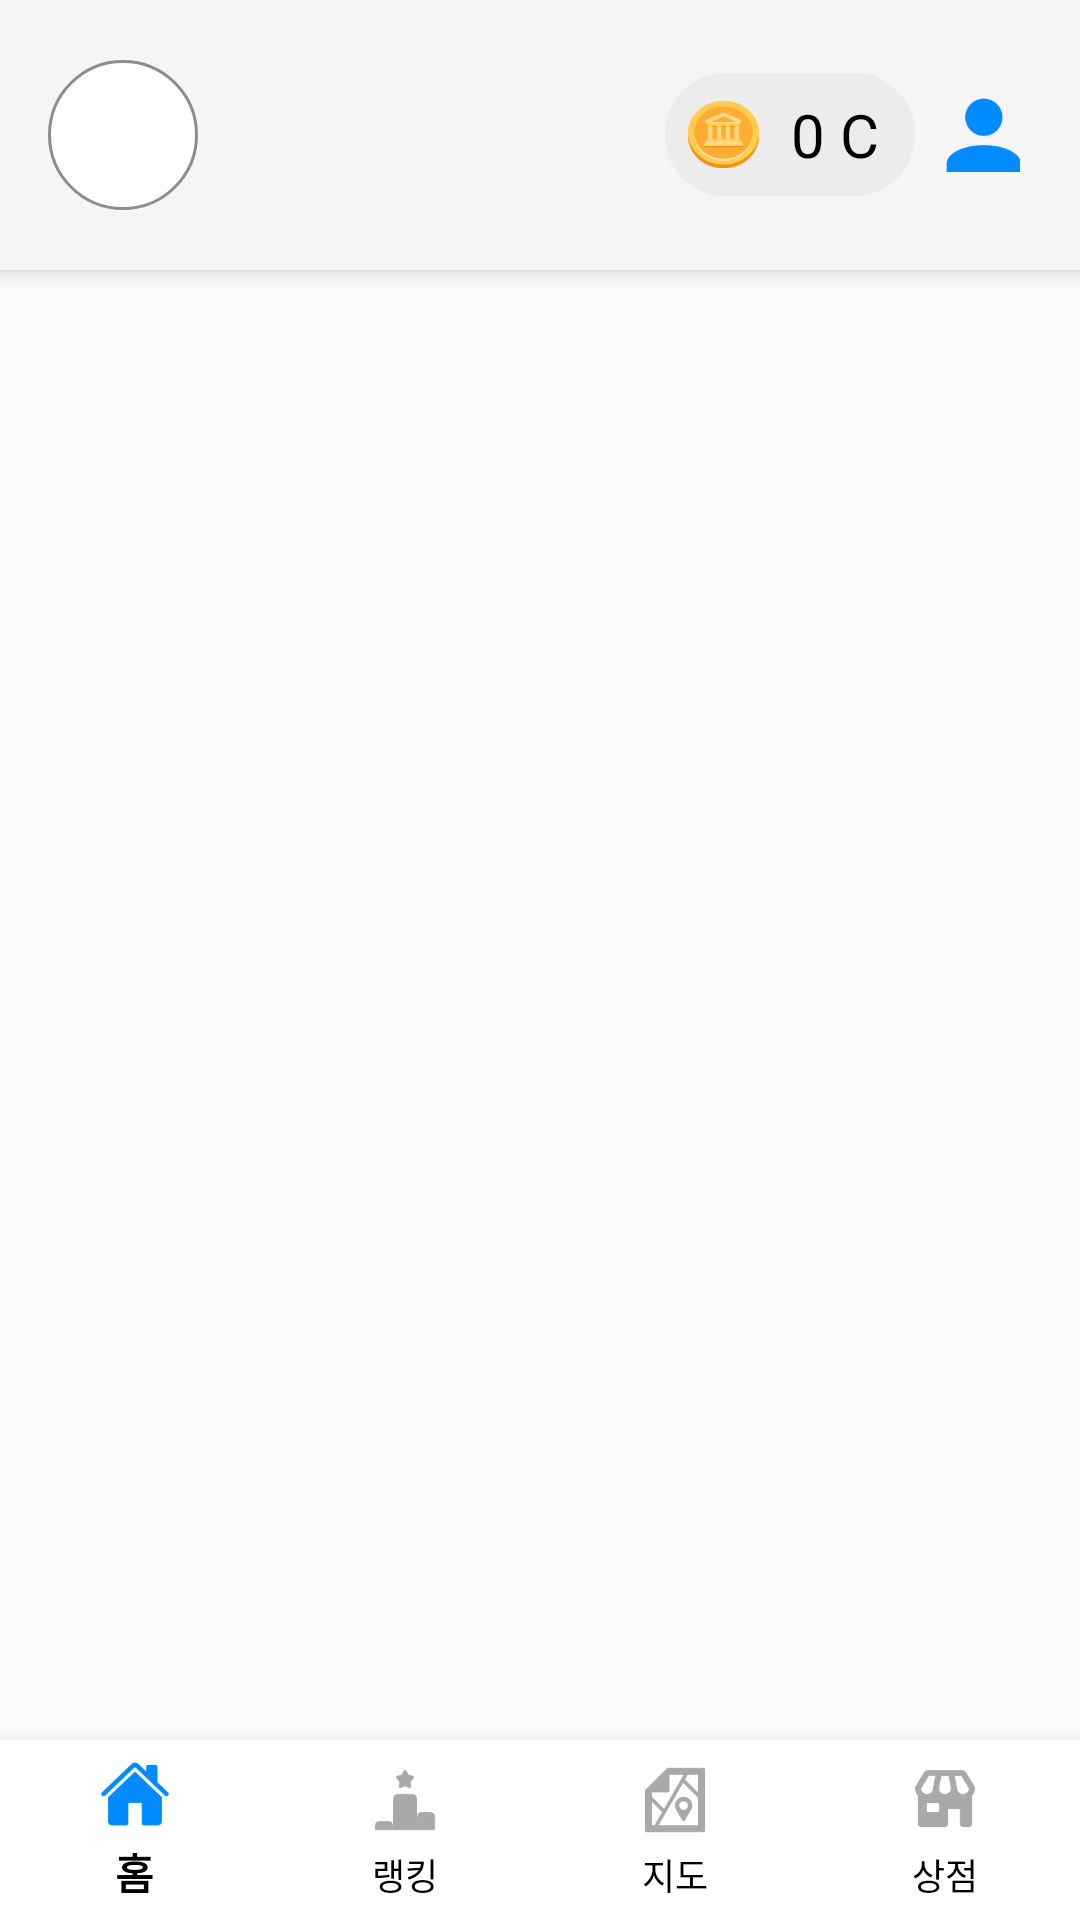

Named icons in this screenshot (1080x1920) and their centers, (x,y):
coin: (723,134)
mypage: (983,135)
